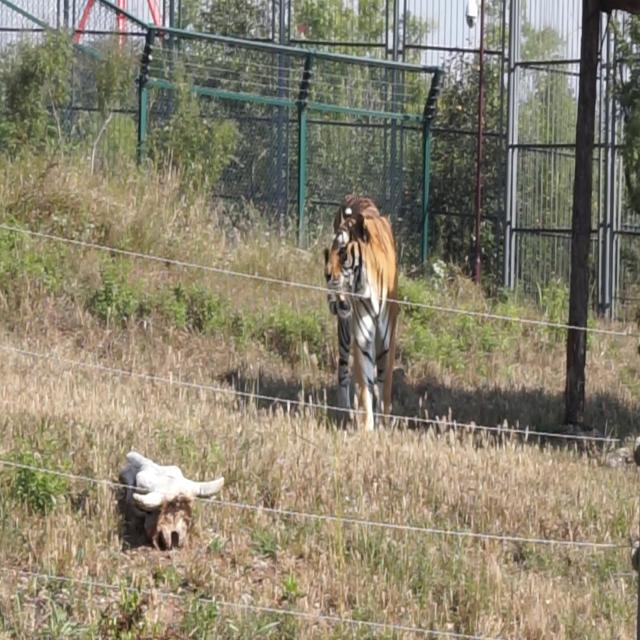Tiger: (312, 182, 404, 436)
